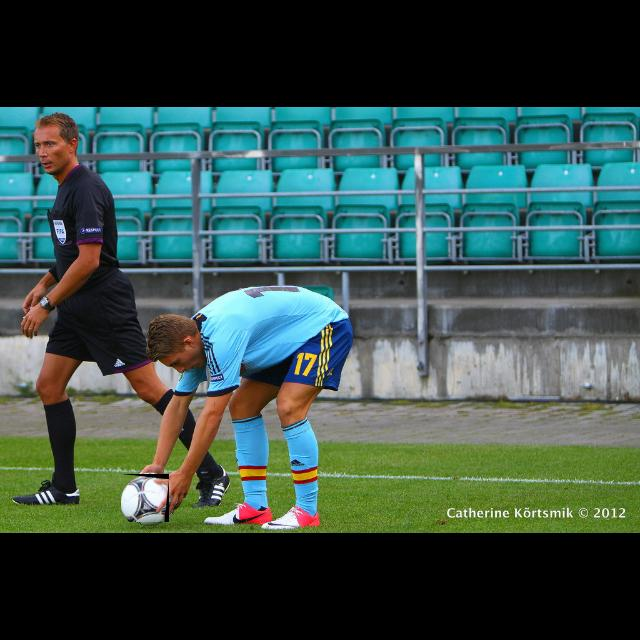Football: (121, 474, 169, 522)
